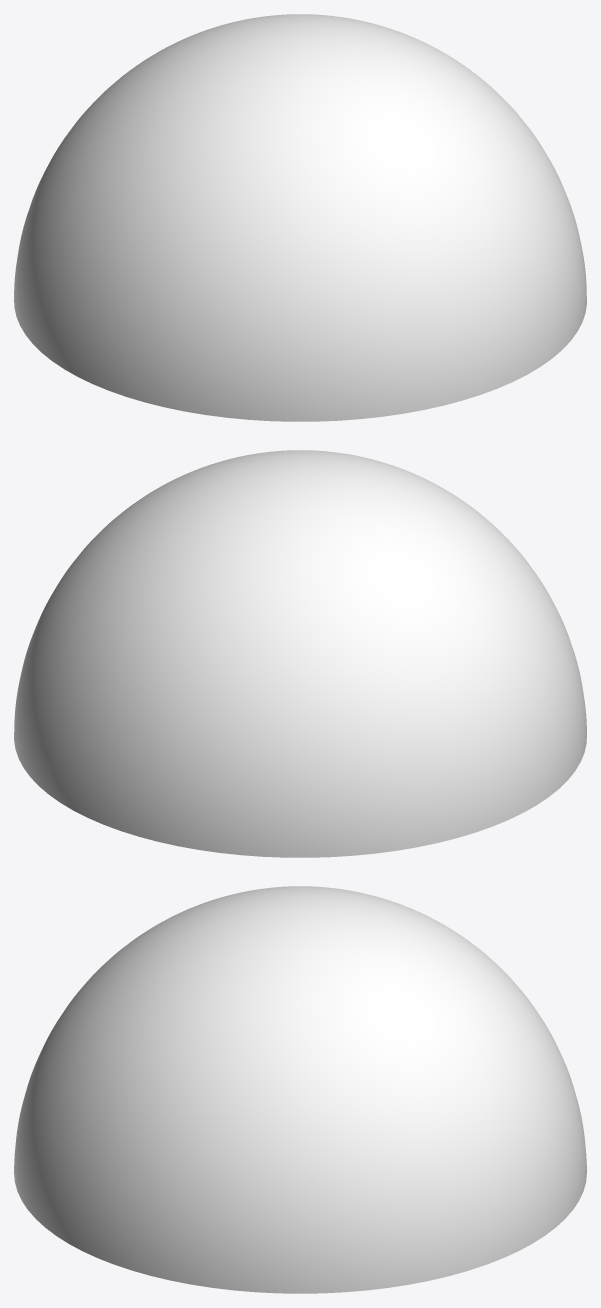
File: half circle.fbx
The picture shows the model from 3 angles, top to bottom: view 1: azimuth 30°, elevation 25°; view 2: azimuth 150°, elevation 25°; view 3: azimuth 270°, elevation 25°; orthographic projection.
Visible parts, largest first — view 1: root; view 2: root; view 3: root.
Part boxes in pixels (left/top/right/bottom): root: left=14, top=14, right=586, bottom=421; root: left=14, top=450, right=586, bottom=857; root: left=14, top=886, right=586, bottom=1293.
Bounding box in the file's own units: 0.17 × 0.0849 × 0.17.
Materials: 1 (1 with a texture image).
